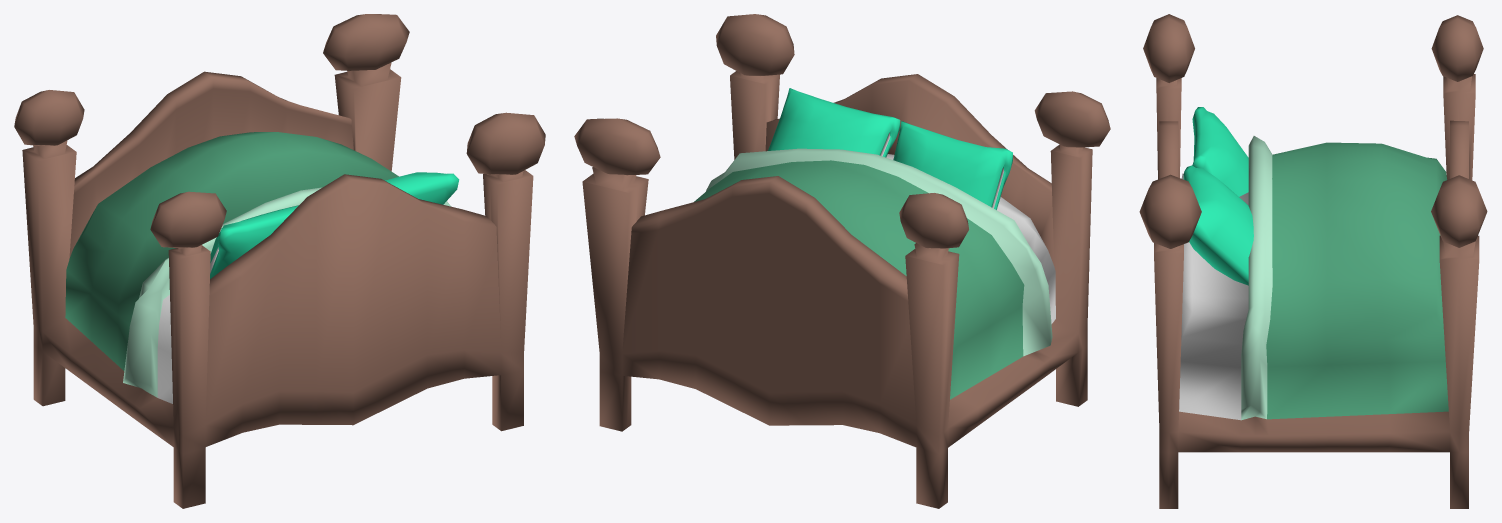
The model's file is props_double_bed.fbx.
The picture shows the model from 3 angles, left to right: view 1: azimuth 30°, elevation 25°; view 2: azimuth 150°, elevation 25°; view 3: azimuth 270°, elevation 25°; orthographic projection. The views are drawn at different scales.
Visible parts, largest first — view 1: props_double_bed; view 2: props_double_bed; view 3: props_double_bed.
Boxes of the visible parts, <box> form: props_double_bed: <box>14,14,545,508</box>; props_double_bed: <box>574,14,1110,508</box>; props_double_bed: <box>1139,14,1487,508</box>.
Size of the model in its own units: 4.65 by 3.39 by 3.47.
